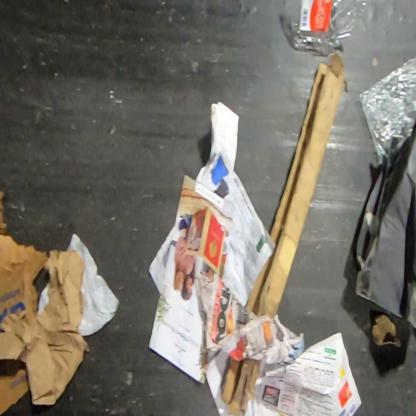cardboard: (244, 49, 345, 318), (354, 119, 415, 334), (0, 190, 49, 326), (221, 355, 263, 415), (0, 359, 32, 415)
rigid_plastic: (279, 0, 370, 57)
soft_plastic: (357, 54, 415, 171), (67, 232, 120, 337), (37, 281, 50, 316)
